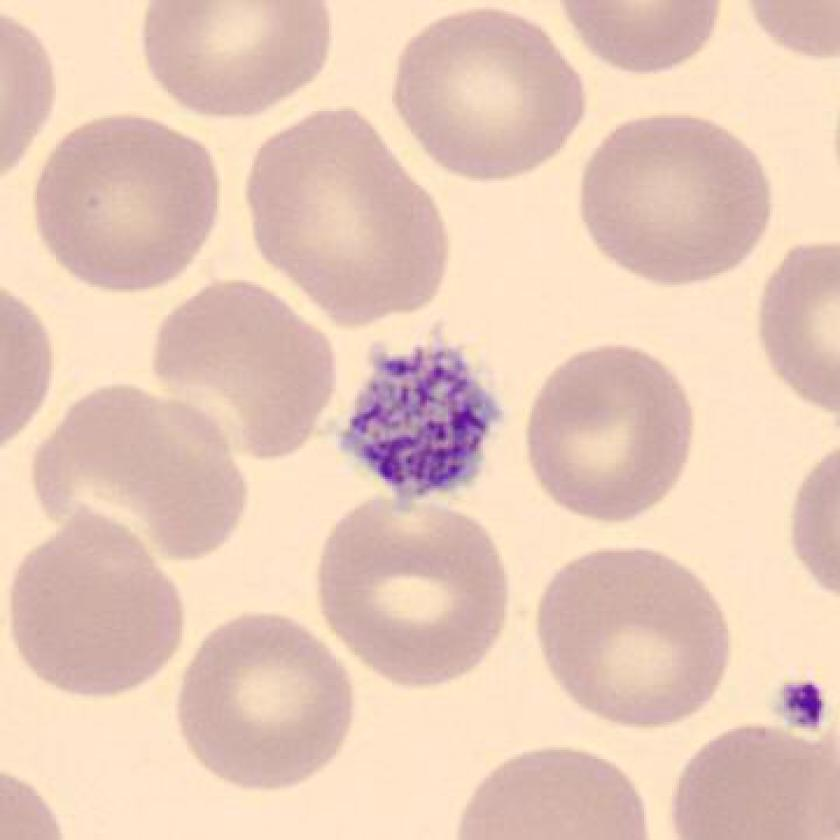platelets: (330, 337, 507, 513), (766, 668, 832, 739)
